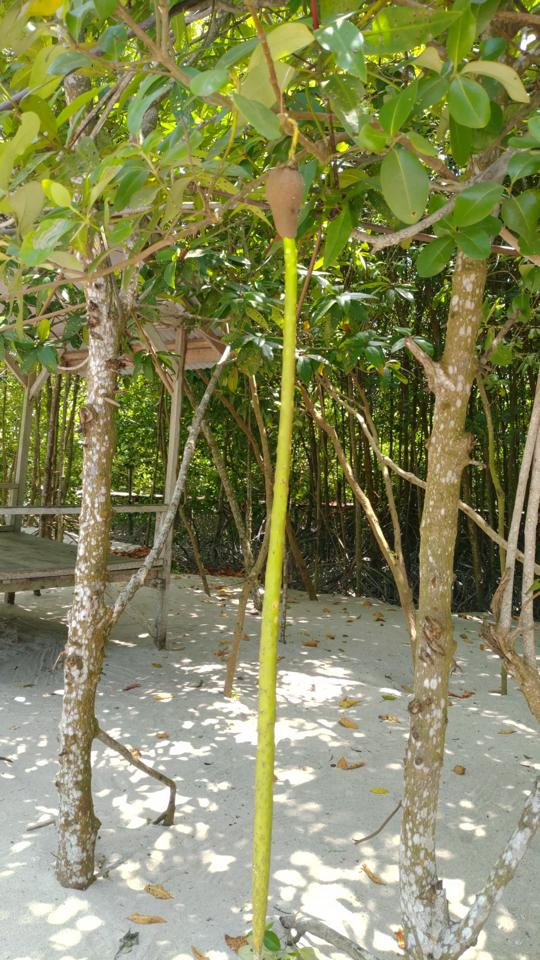mentah: (243, 144, 319, 955)
